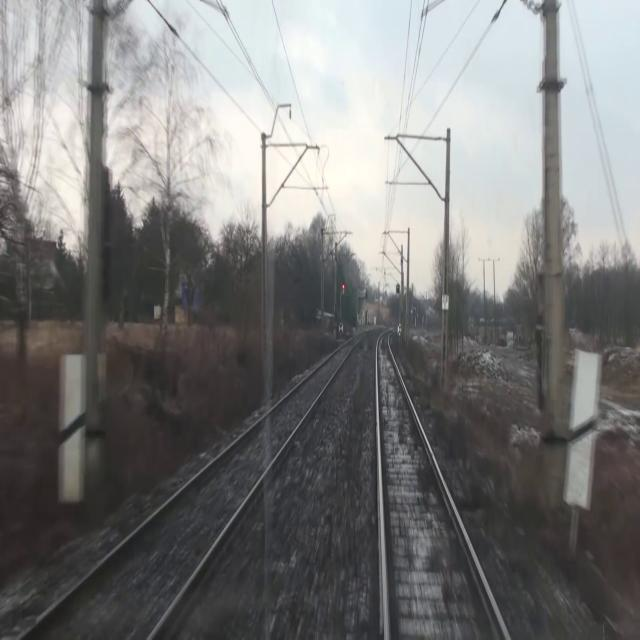rail-track: (24, 337, 359, 639), (378, 332, 504, 639)
